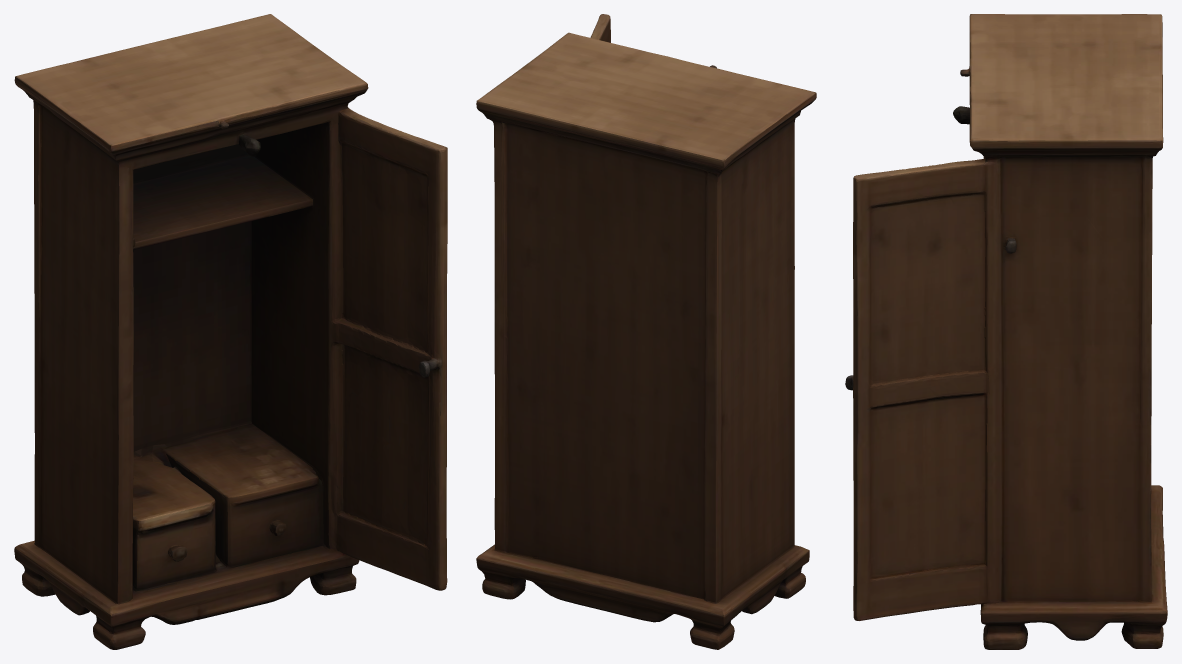
The model's file is open_wardrobe.glb.
The picture shows the model from 3 angles, left to right: view 1: azimuth 30°, elevation 25°; view 2: azimuth 150°, elevation 25°; view 3: azimuth 270°, elevation 25°; orthographic projection. The views are drawn at different scales.
Parts seen in each view (by area): view 1: geometry_0; view 2: geometry_0; view 3: geometry_0.
Boxes of the visible parts, bbox=[...] form: geometry_0: bbox=[14, 14, 447, 649]; geometry_0: bbox=[476, 14, 816, 649]; geometry_0: bbox=[845, 14, 1167, 649].
Size of the model in its own units: 0.5766 by 1 by 0.5703.
1 material, 1 textured.
